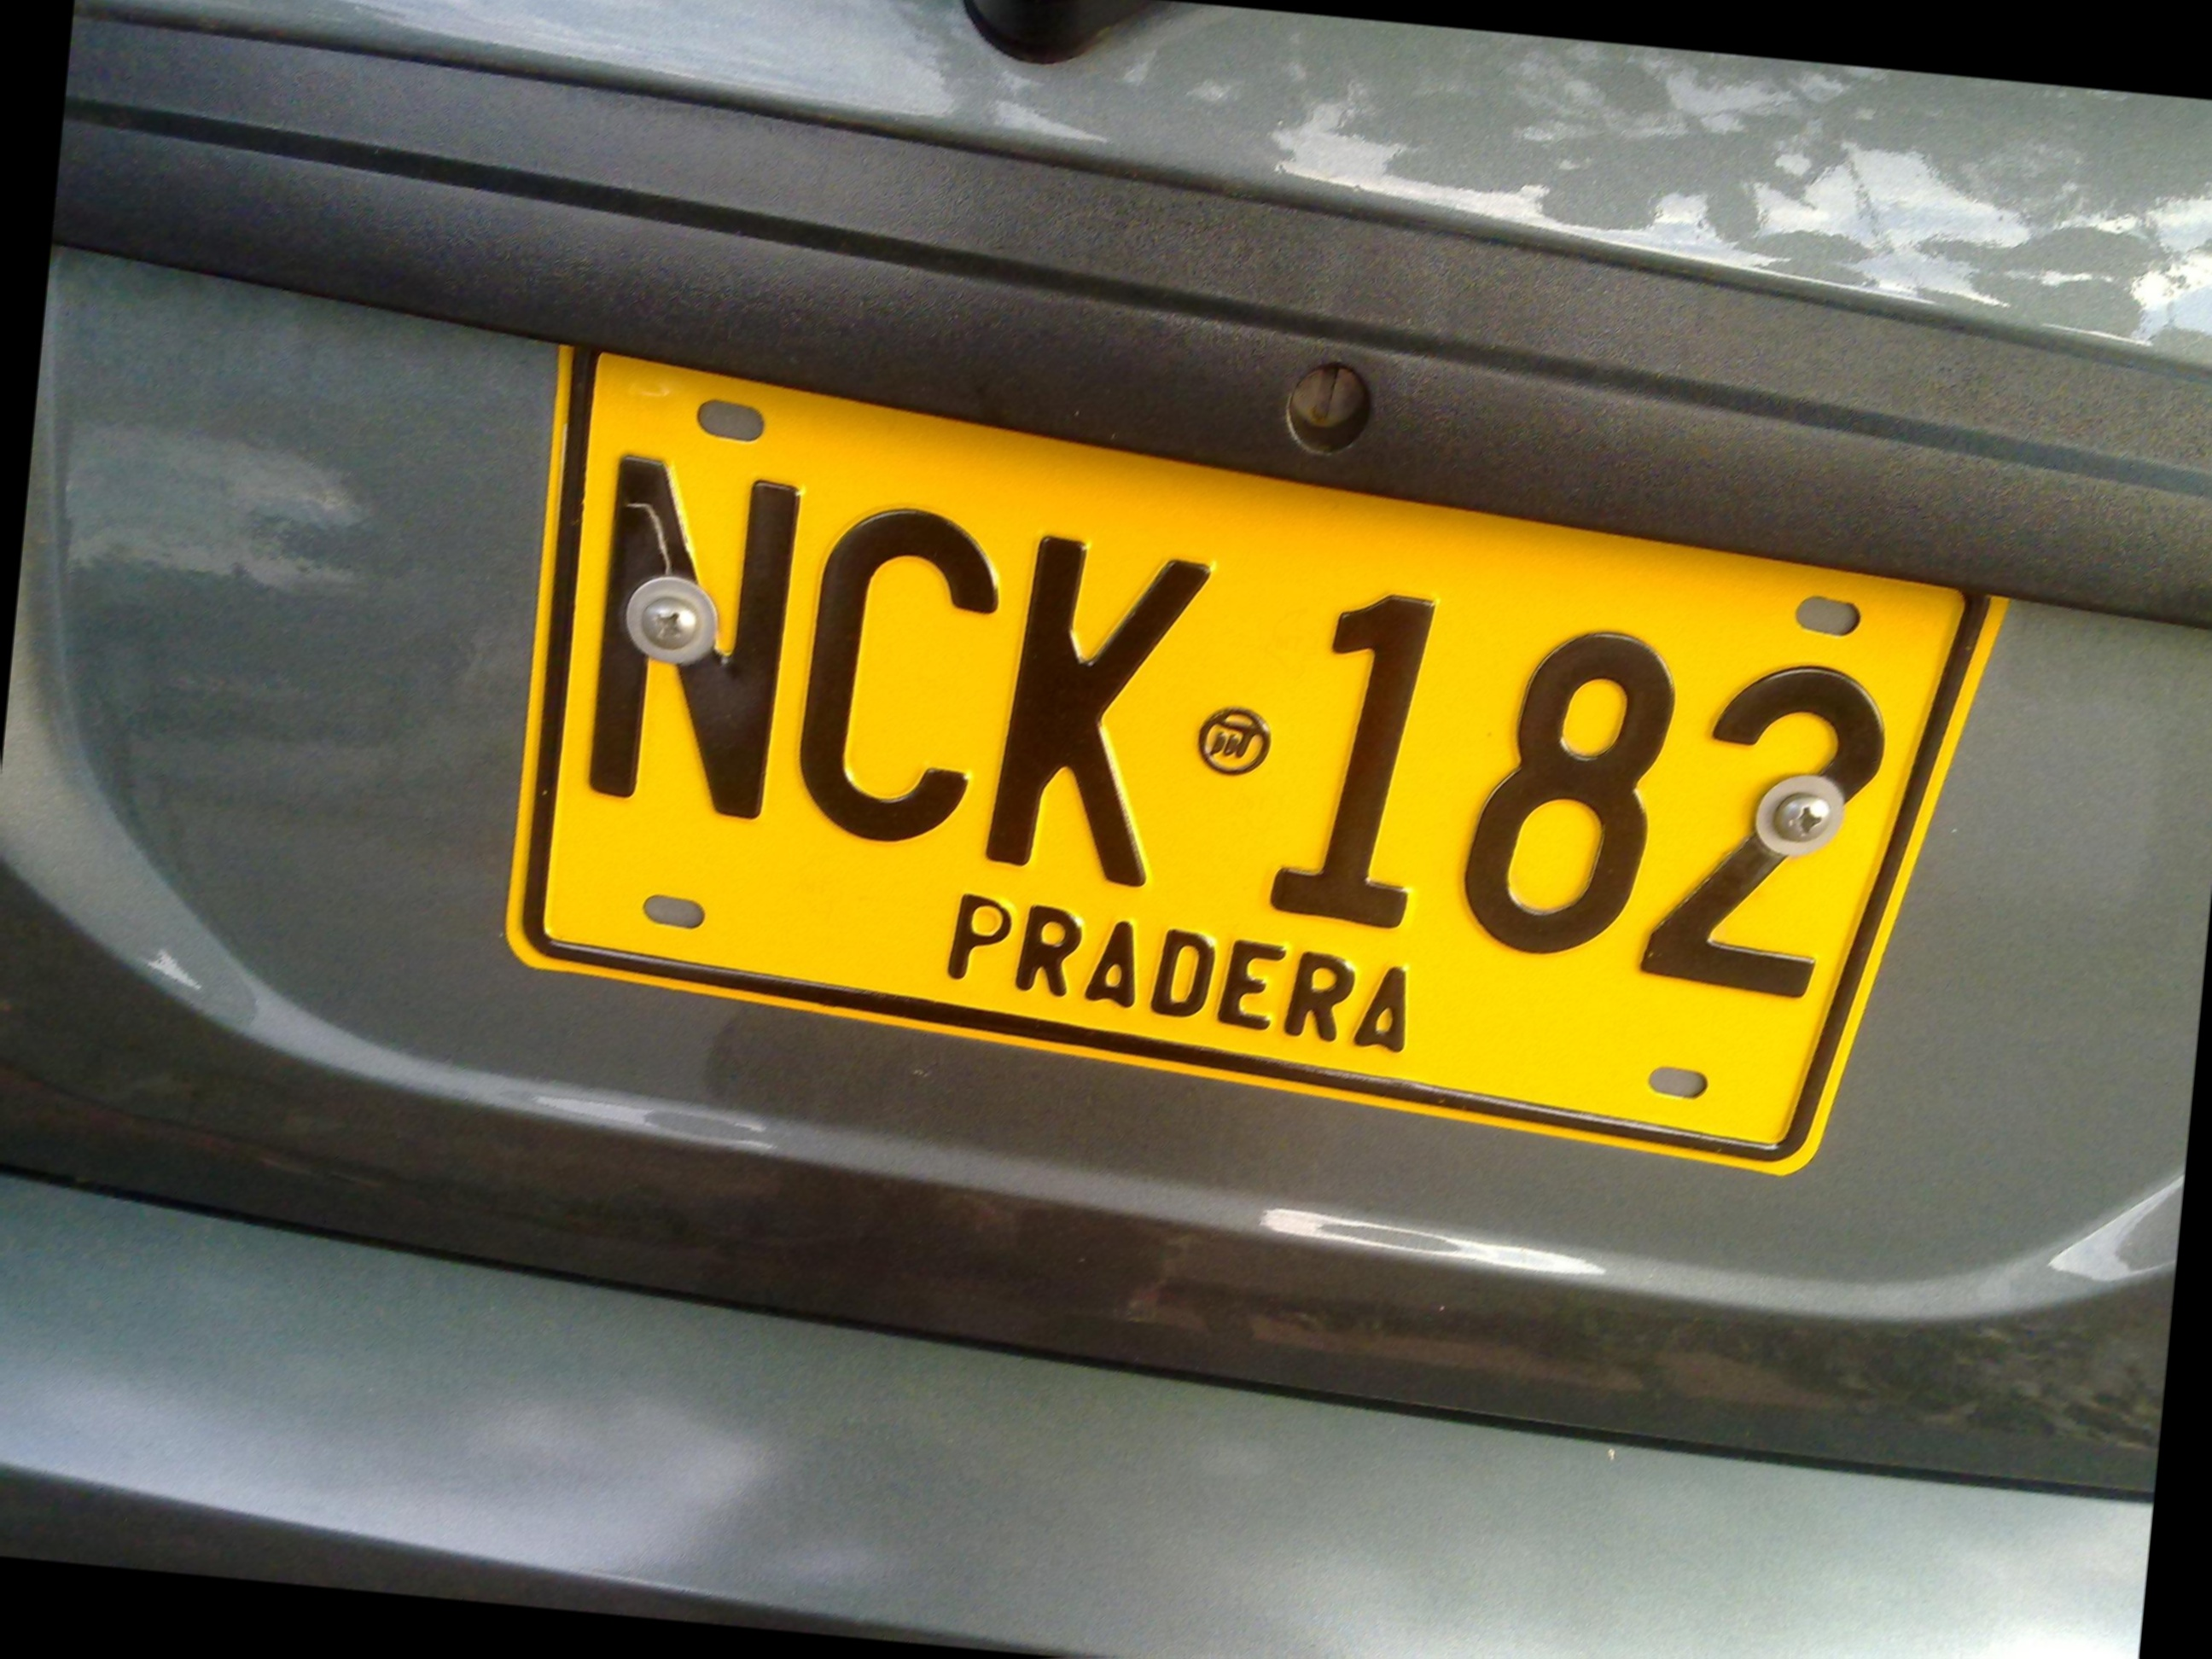placas: (478, 299, 2035, 1206)
